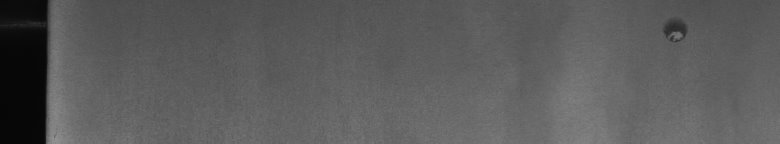fi: (660, 12, 692, 44)
